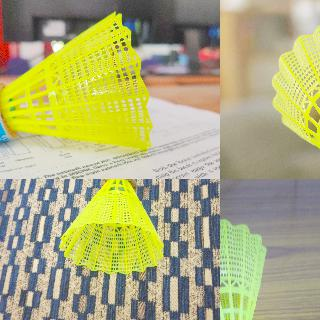shuttlecock: (0, 10, 152, 156), (59, 179, 164, 274), (271, 19, 319, 178), (220, 215, 267, 319)
